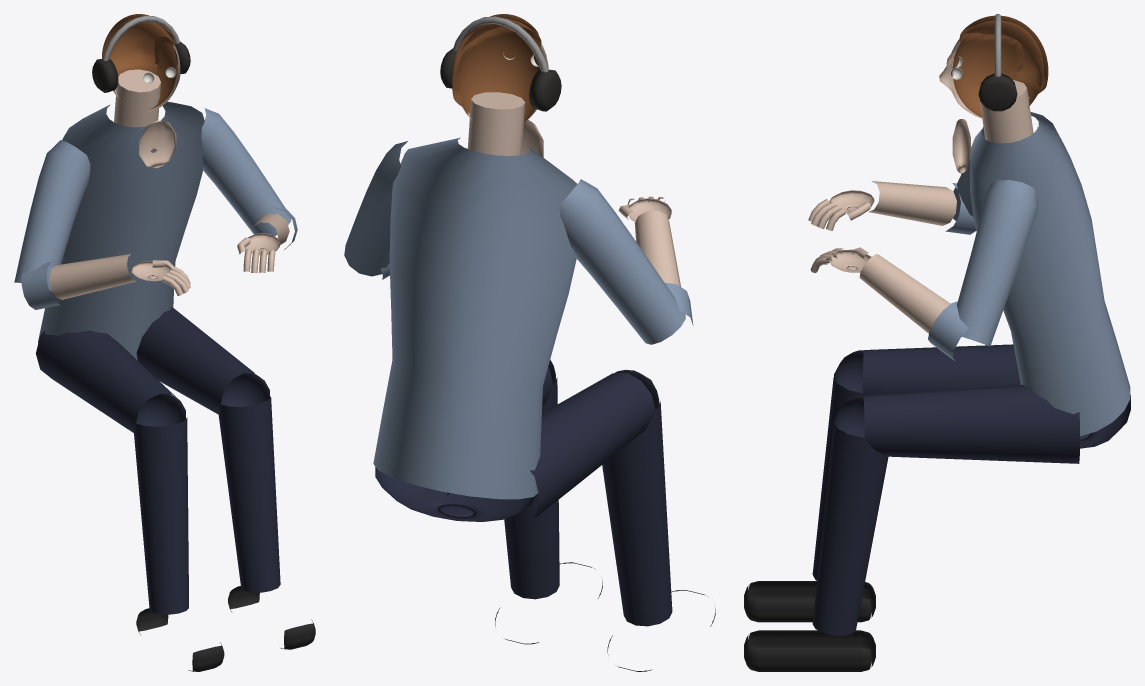
File: radio_seated.glb
3 renders of one model, left to right at view 1: azimuth 30°, elevation 25°; view 2: azimuth 150°, elevation 25°; view 3: azimuth 270°, elevation 25°, orthographic. The views are drawn at different scales.
Parts seen in each view (by area): view 1: body, head; view 2: body, head; view 3: body, head.
Part boxes in pixels (x1=…): body: x1=14, y1=69, x2=315, y2=671; head: x1=92, y1=14, x2=190, y2=111; body: x1=344, y1=92, x2=715, y2=671; head: x1=440, y1=14, x2=561, y2=122; body: x1=744, y1=80, x2=1130, y2=671; head: x1=939, y1=14, x2=1048, y2=118.
Size of the model in its own units: 0.7174 by 1.41 by 0.7922.
